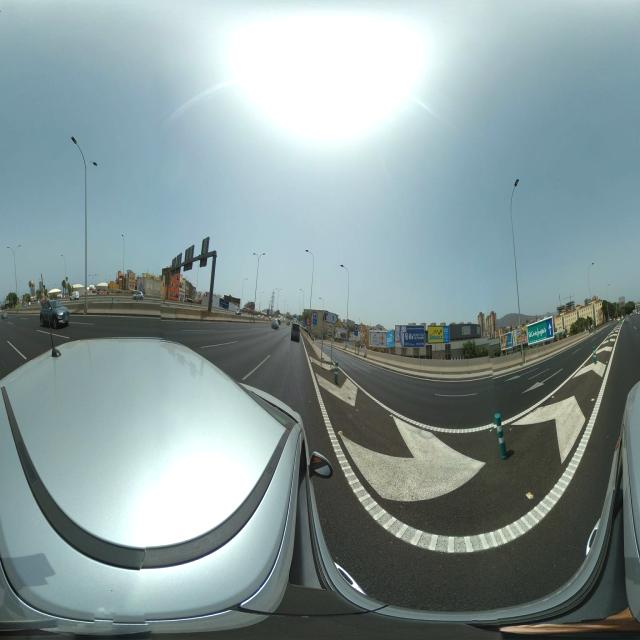car: (39, 298, 70, 328), (290, 321, 301, 342), (132, 289, 145, 301), (271, 317, 280, 331)
